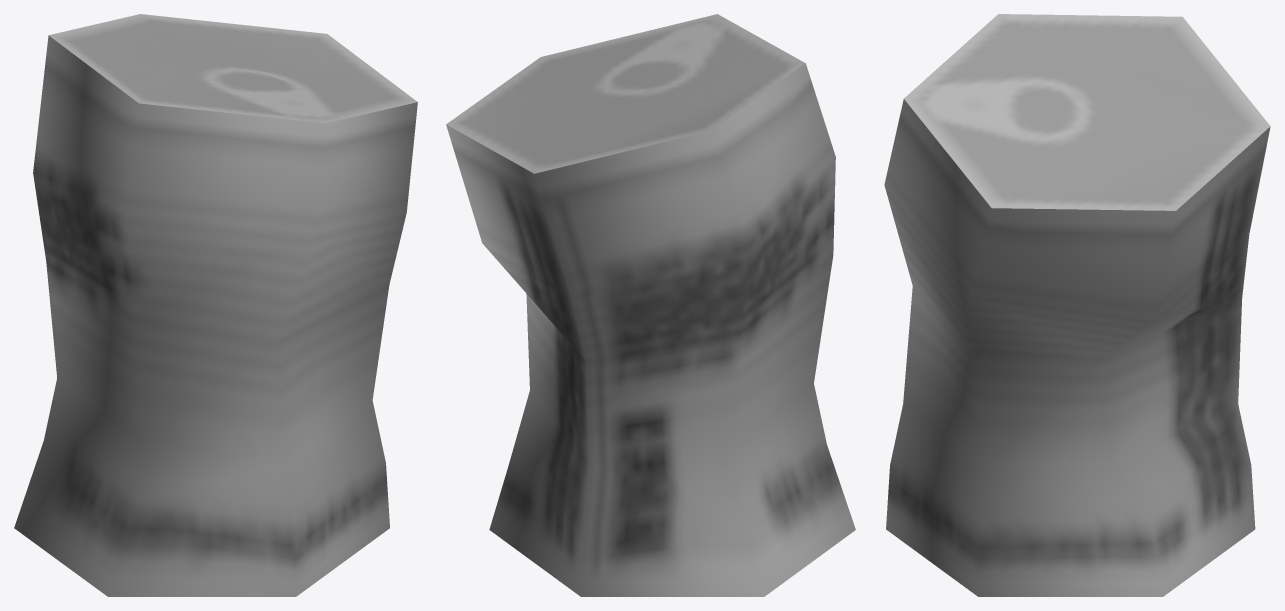
File: trash_demented_can.fbx
3 views of the same model, side by side, from view 1: azimuth 30°, elevation 25°; view 2: azimuth 150°, elevation 25°; view 3: azimuth 270°, elevation 25° (orthographic). The views are drawn at different scales.
Visible parts, largest first — view 1: trash_can; view 2: trash_can; view 3: trash_can.
Boxes of the visible parts, x1,y1,x2,y2 form: trash_can: (14, 14, 417, 596); trash_can: (446, 14, 855, 596); trash_can: (884, 14, 1270, 596).
Size of the model in its own units: 3.77 by 5.36 by 4.01.
